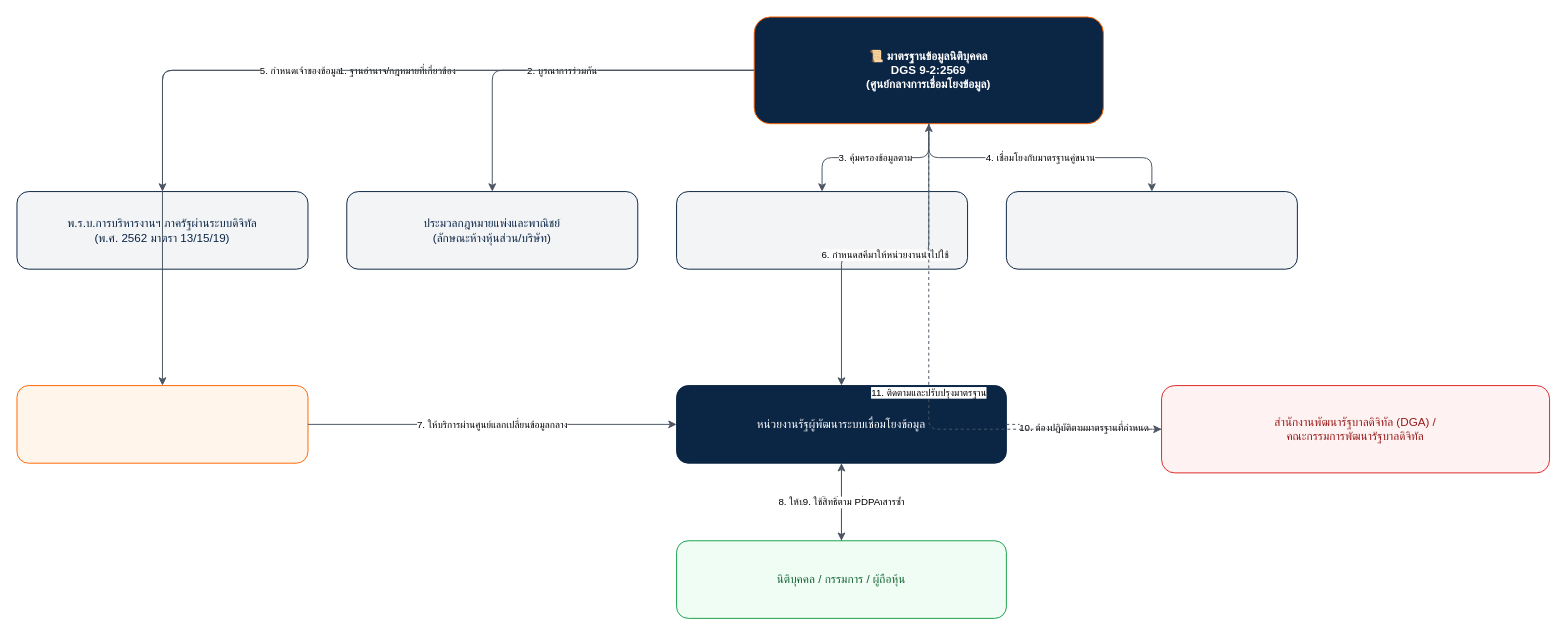
The diagram is 1567 pixels wide and 635 high, and some of its shapes have lost their labels. Each missing label, with the box of its shape:
กรมพัฒนาธุรกิจการค้า (เจ้าของข้อมูล): (16, 385, 308, 463)
พ.ร.บ.คุ้มครองข้อมูลส่วนบุคคล (PDPA พ.ศ. 2562): (676, 191, 968, 269)
มาตรฐานข้อมูลบุคคล DGS 9-1:2569 (คู่ขนาน): (1005, 191, 1297, 269)
